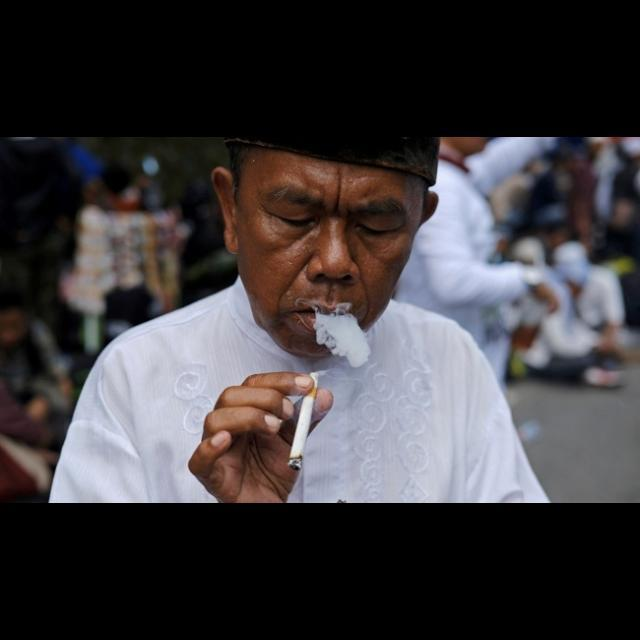rokok: (278, 368, 328, 478)
